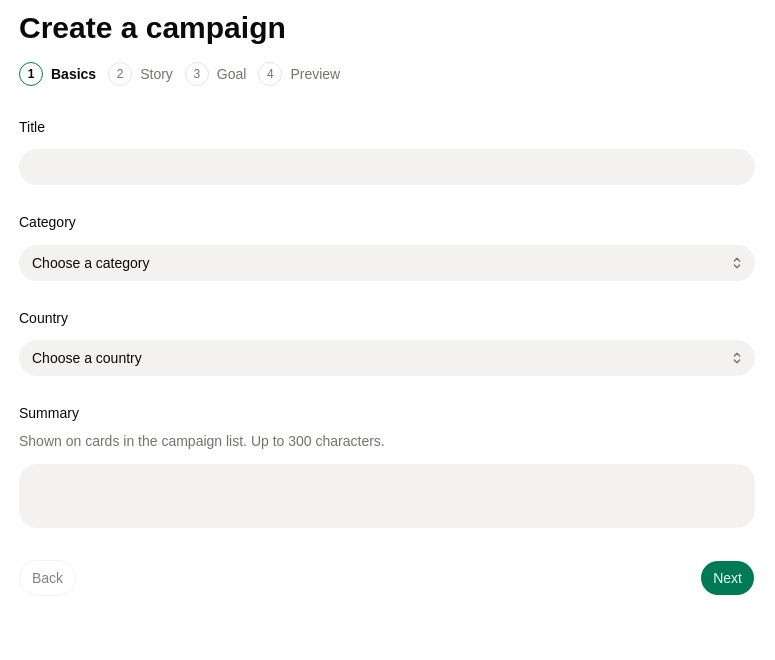
Test case: CreateCampaignPage › moves through the steps with Next and back with Back
What coordinates should you click on to do the following:
click the button "Next"
I would click on:
 (728, 578)
Its box is top-left (700, 560), bottom-right (755, 596).
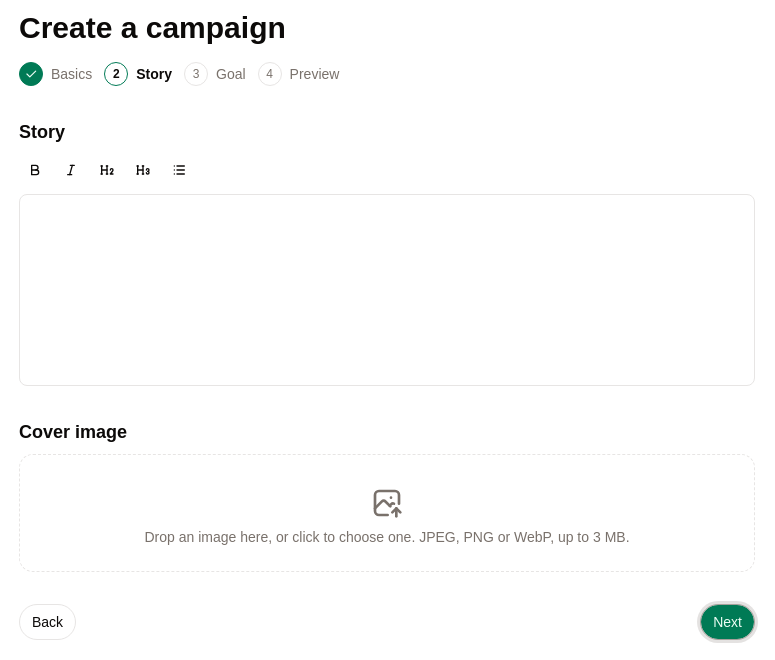
Result: the field named "Story" is shown at top-left (19, 194), bottom-right (755, 386)
What coordinates should you click on to do the following:
click the button "Next"
I would click on:
 (728, 622)
Its box is top-left (700, 604), bottom-right (755, 640).
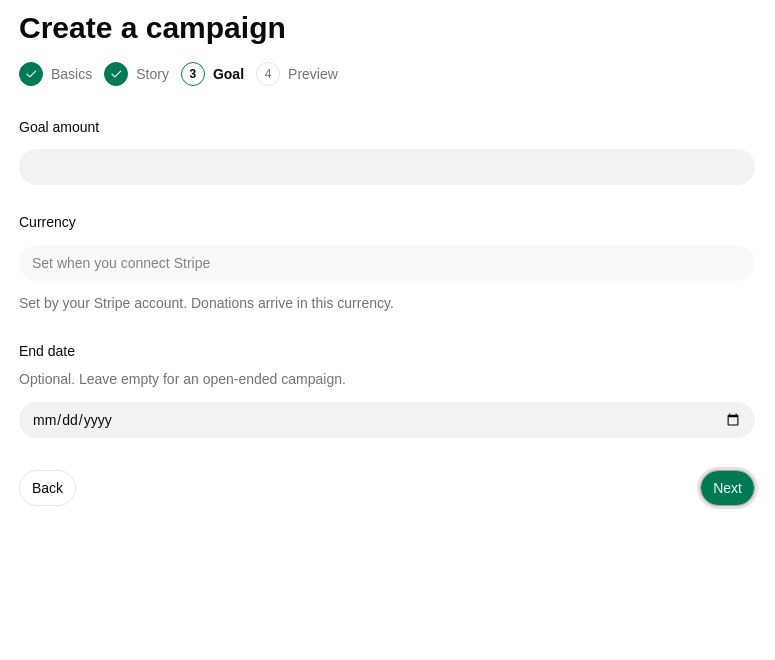
What coordinates should you click on to do the following:
click the button "Back"
I would click on:
 (48, 488)
Its box is top-left (19, 470), bottom-right (76, 506).
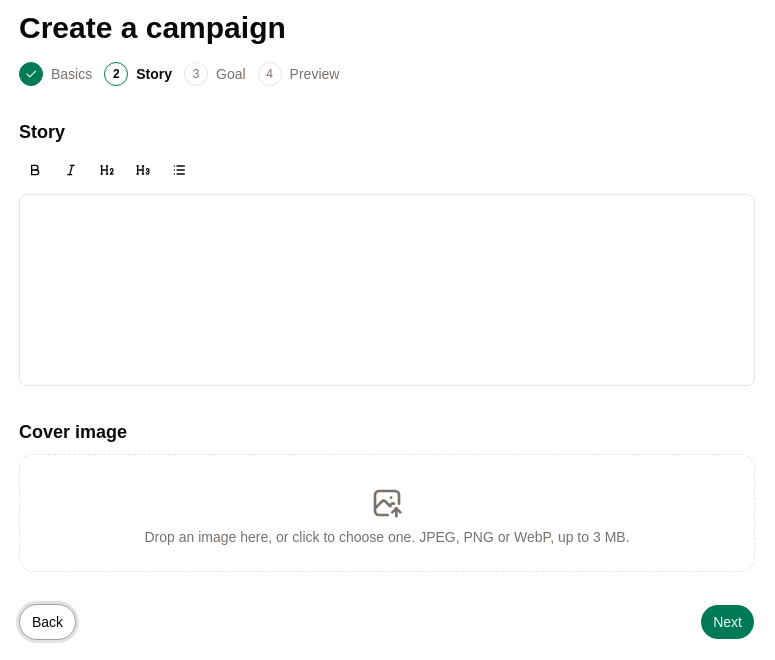
Result: the field named "Story" is shown at top-left (19, 194), bottom-right (755, 386)
